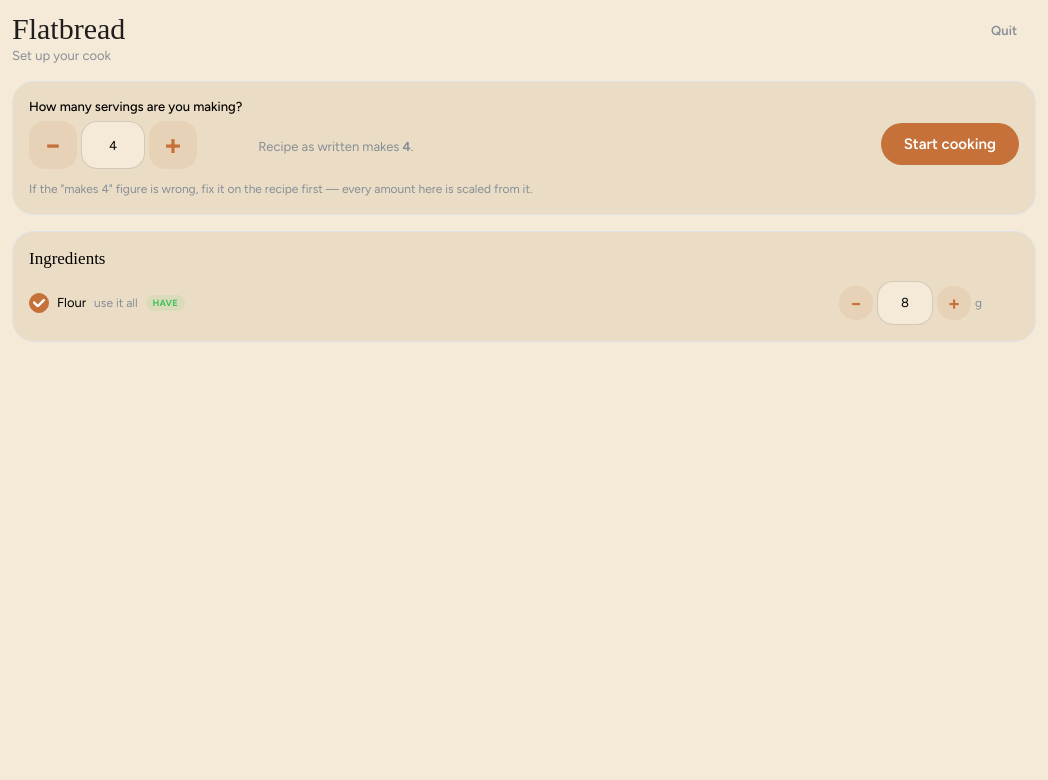
Test: CookAlongPage › defaults to the recipe's own yield and walks the server's steps
Expected: the heading "Flatbread" is shown, top-left (12, 12), bottom-right (125, 46)
Expected: the field named "How many servings are you making?" holds "4", top-left (81, 121), bottom-right (145, 169)
Click the button "Start cooking" at (950,144), box top-left (881, 123), bottom-right (1019, 165)
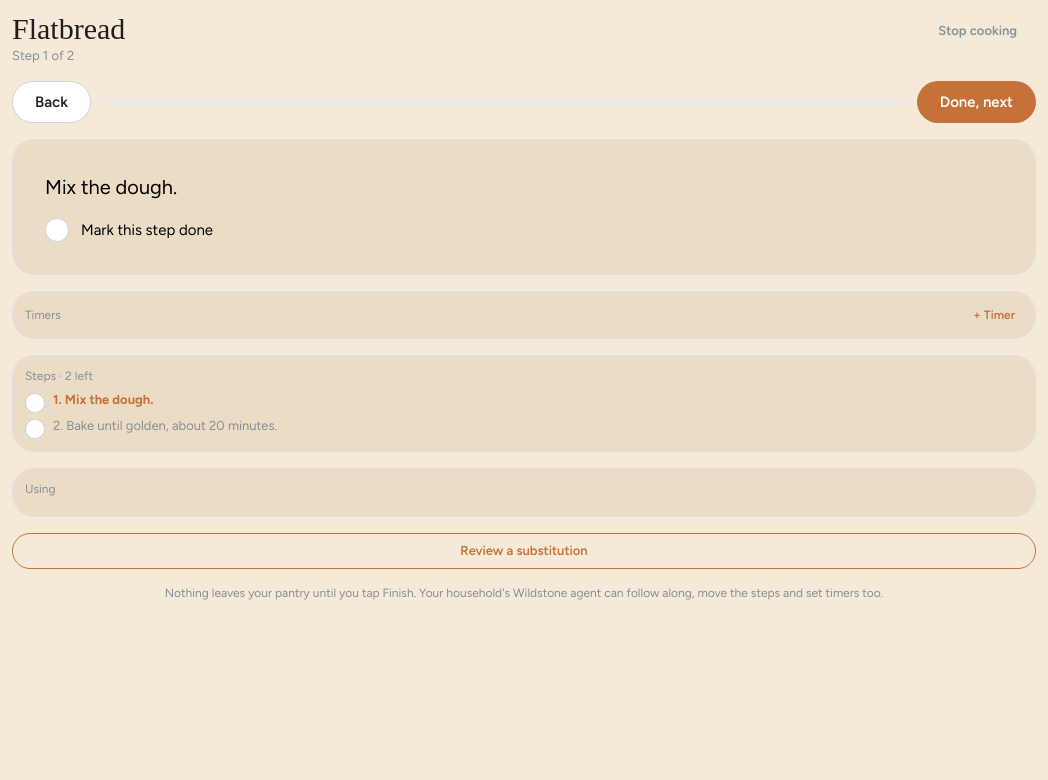
Result: the text "Step 1 of 2" is shown at top-left (12, 48), bottom-right (74, 62)
Result: the text "Mix the dough." is shown at top-left (45, 175), bottom-right (177, 199)
Click the button "Done, next" at (976,102), box top-left (917, 81), bottom-right (1036, 123)
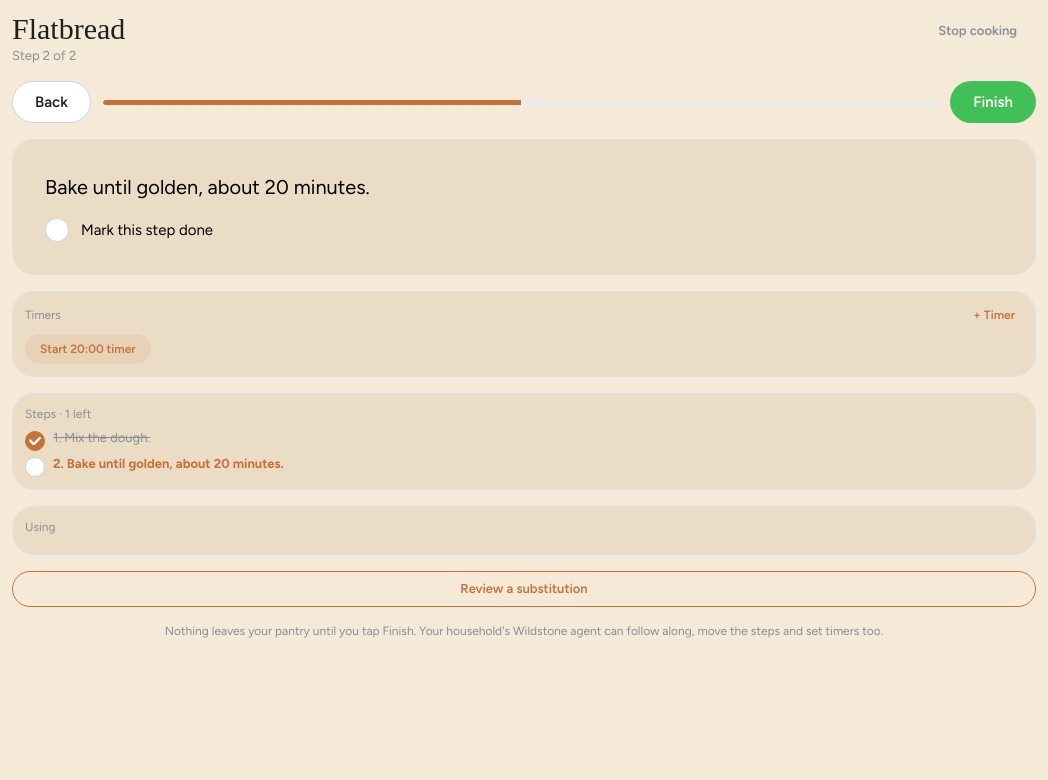
Result: the text "Step 2 of 2" is shown at top-left (12, 48), bottom-right (76, 62)
Result: the checkbox named "Step 1 done" is checked at top-left (25, 431), bottom-right (45, 451)
